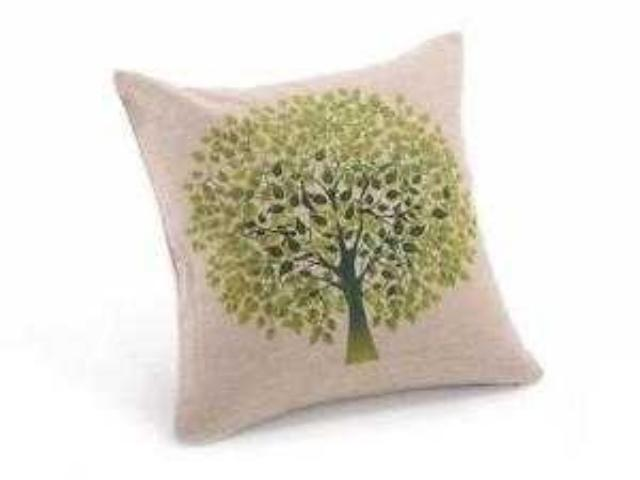pillow: (111, 28, 544, 444)
